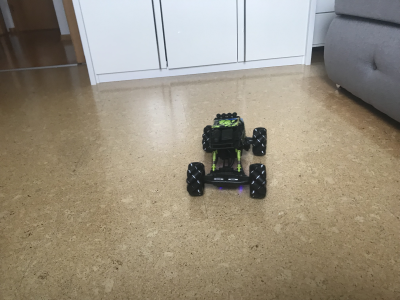remote control car: (184, 110, 268, 202)
